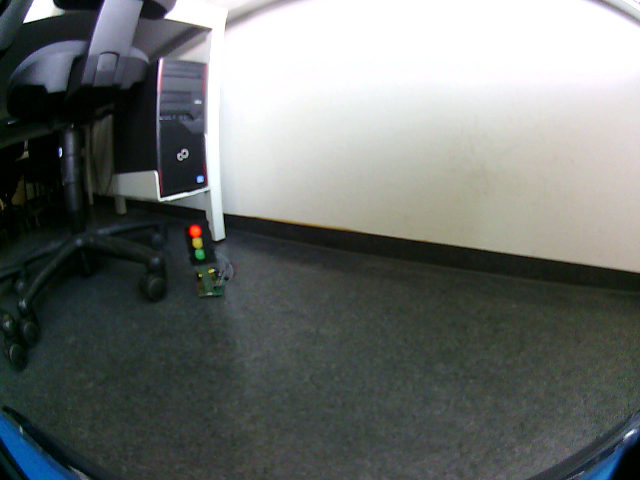red trafficlight: (187, 223, 209, 264)
